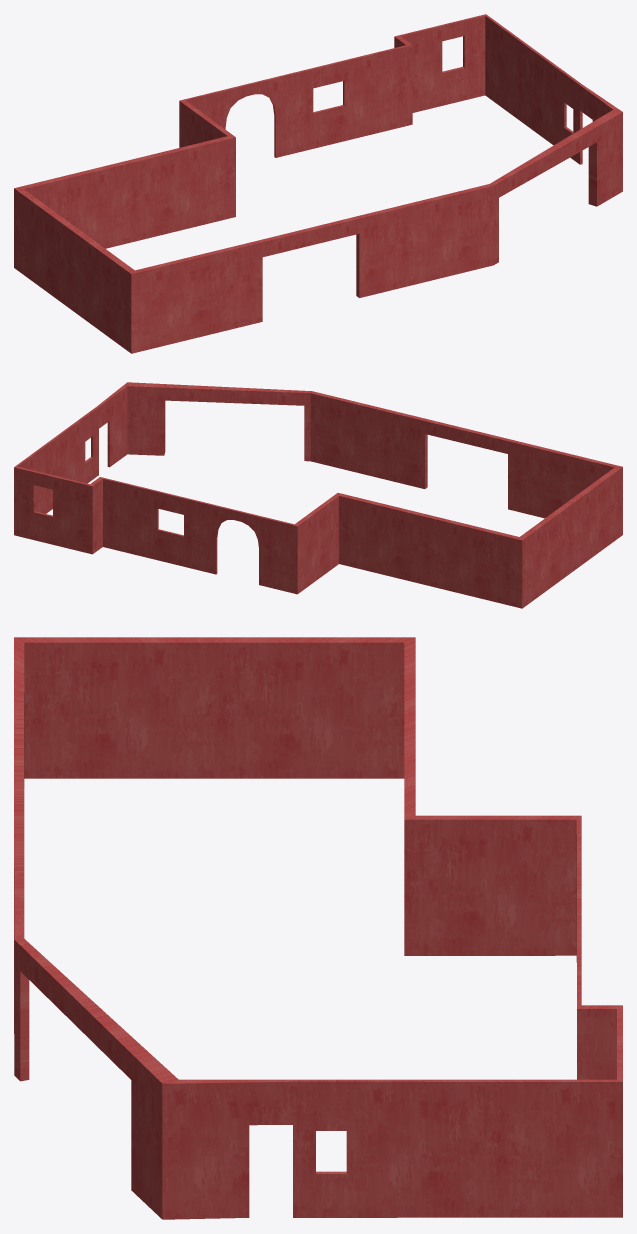
The model's file is SM_Walls.fbx.
The picture shows the model from 3 angles, top to bottom: view 1: azimuth 30°, elevation 25°; view 2: azimuth 150°, elevation 25°; view 3: azimuth 270°, elevation 25°; orthographic projection. The views are drawn at different scales.
Visible parts, largest first — view 1: SM_Walls_LOD0; view 2: SM_Walls_LOD0; view 3: SM_Walls_LOD0.
Part boxes in pixels (box(x1,y1,x2,y2)): SM_Walls_LOD0: box(14, 14, 622, 353); SM_Walls_LOD0: box(14, 382, 622, 608); SM_Walls_LOD0: box(14, 637, 622, 1219).
Bounding box in the file's own units: 2295 × 1323 × 326.
Materials: 1 (1 with a texture image).
